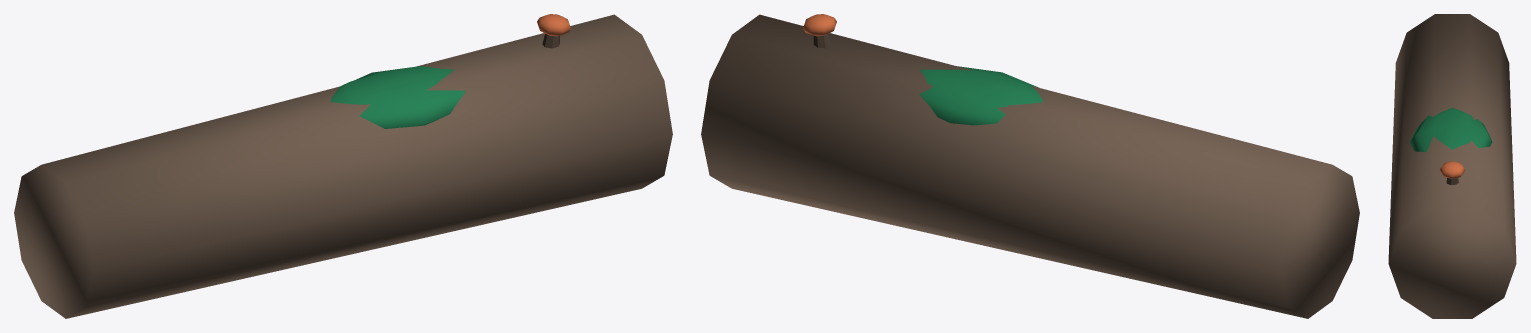
Rendered from prop-log.glb.
3 renders of one model, left to right at view 1: azimuth 30°, elevation 25°; view 2: azimuth 150°, elevation 25°; view 3: azimuth 270°, elevation 25°, orthographic. The views are drawn at different scales.
Parts seen in each view (by area): view 1: prop-log; view 2: prop-log; view 3: prop-log.
Boxes of the visible parts, x1,y1,x2,y2 form: prop-log: (14, 14, 672, 318); prop-log: (701, 14, 1359, 318); prop-log: (1388, 14, 1516, 318).
Size of the model in its own units: 0.52 by 0.156 by 0.14.
